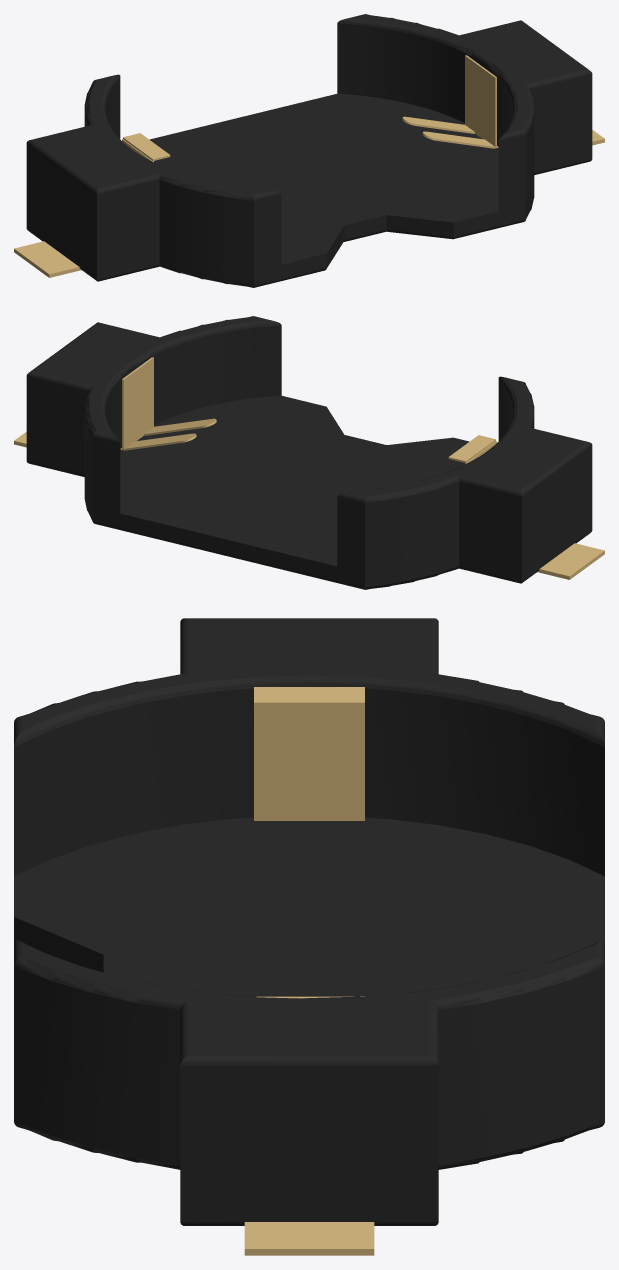
The model's file is kc-batteryholder_keystone_1058_1x2032.glb.
3 views of the same model, one above another, from view 1: azimuth 30°, elevation 25°; view 2: azimuth 150°, elevation 25°; view 3: azimuth 270°, elevation 25° (orthographic). The views are drawn at different scales.
Parts seen in each view (by area): view 1: 0_0_0_0, 0.75_0.5_0.25_0.9; view 2: 0_0_0_0, 0.75_0.5_0.25_0.9; view 3: 0_0_0_0, 0.75_0.5_0.25_0.9.
Part boxes in pixels (x1,y1,x2,y2): 0_0_0_0: (26,14,592,287); 0.75_0.5_0.25_0.9: (14,55,604,277); 0_0_0_0: (26,316,592,589); 0.75_0.5_0.25_0.9: (14,357,604,579); 0_0_0_0: (14,618,604,1225); 0.75_0.5_0.25_0.9: (244,687,374,1255).
Size of the model in its own units: 3.19 by 0.5079 by 1.6.
